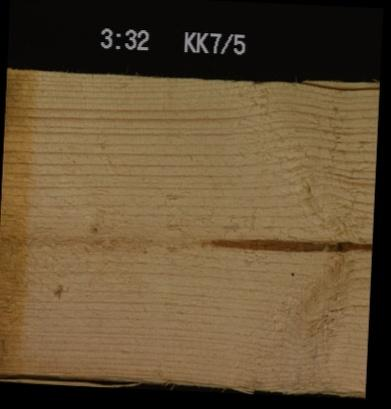small_knot: (282, 263, 301, 283), (89, 220, 102, 235)
split: (297, 82, 378, 93)
